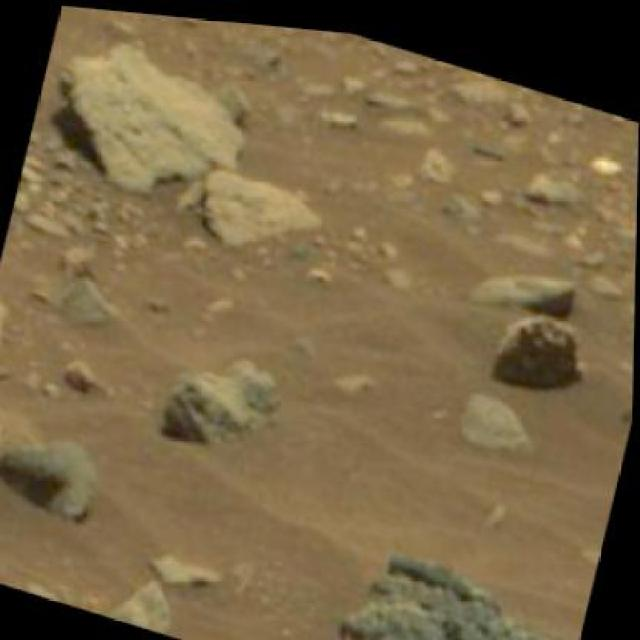rock: (46, 21, 257, 214), (318, 523, 590, 639), (490, 299, 595, 398), (0, 237, 31, 365)
